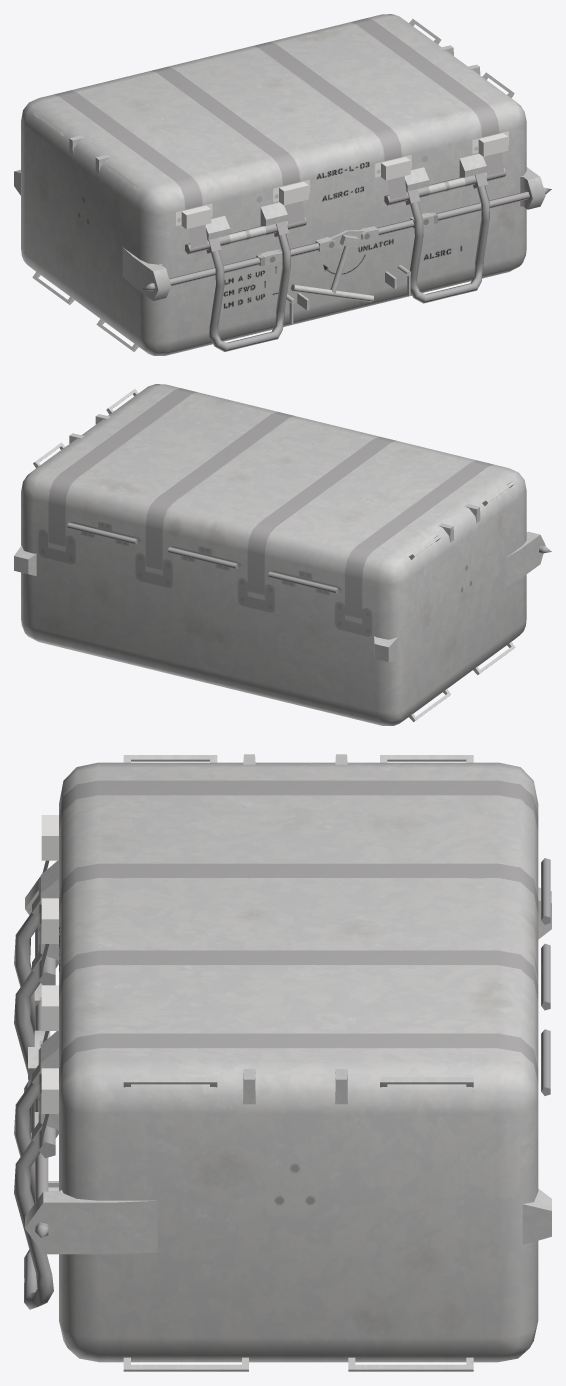
Rendered from airtight_container.fbx.
The picture shows the model from 3 angles, top to bottom: view 1: azimuth 30°, elevation 25°; view 2: azimuth 150°, elevation 25°; view 3: azimuth 270°, elevation 25°; orthographic projection. The views are drawn at different scales.
Visible parts, largest first — view 1: airtight_container1; view 2: airtight_container1; view 3: airtight_container1.
Boxes of the visible parts, x1,y1,x2,y2 form: airtight_container1: [14, 14, 551, 355]; airtight_container1: [14, 384, 551, 725]; airtight_container1: [14, 754, 551, 1371].
Bounding box in the file's own units: 51.34 × 20.27 × 33.41.
1 material, 1 textured.
